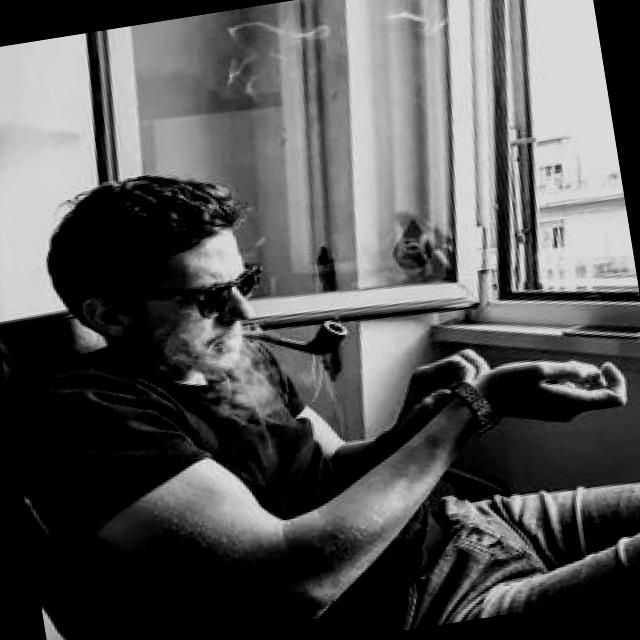cigarette: (212, 316, 356, 376)
